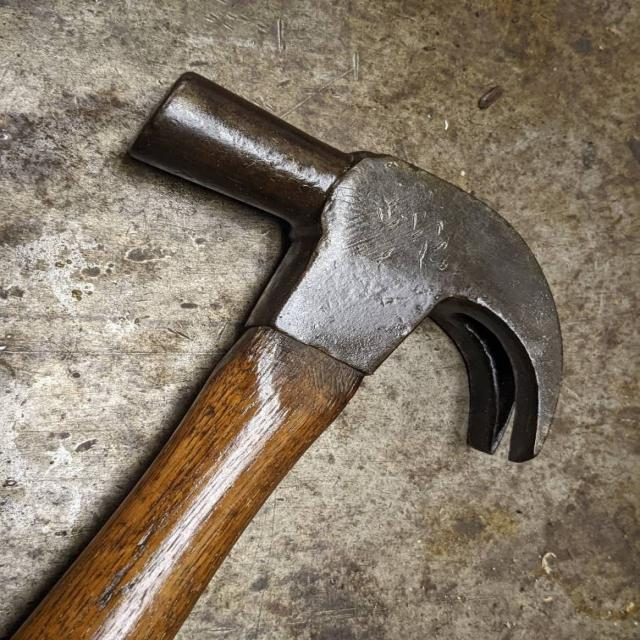hammer: (0, 62, 577, 640)
